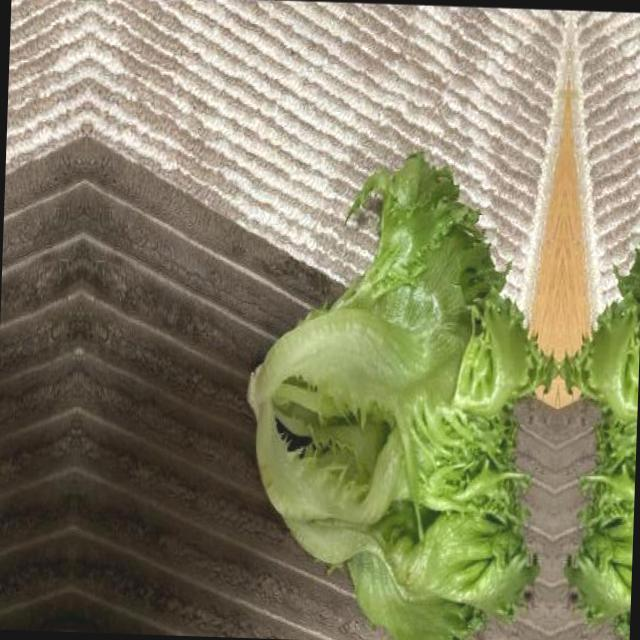healthy: (236, 144, 566, 640), (549, 154, 640, 640)
